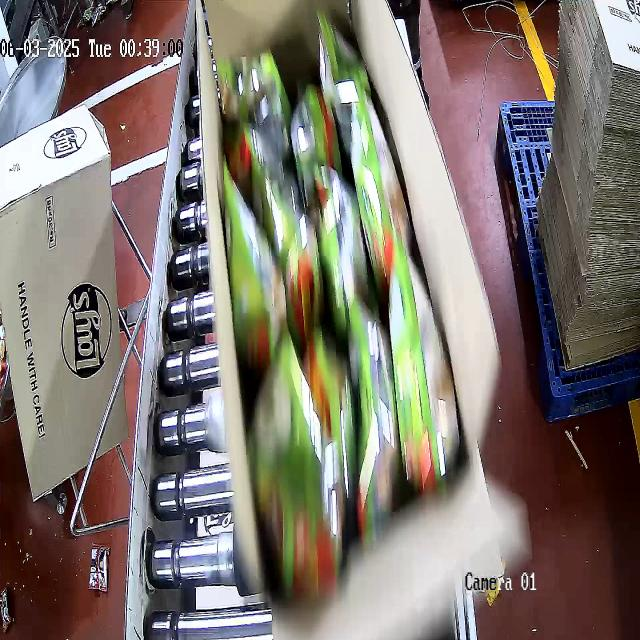YOGURT_HERB: (209, 32, 464, 598)
